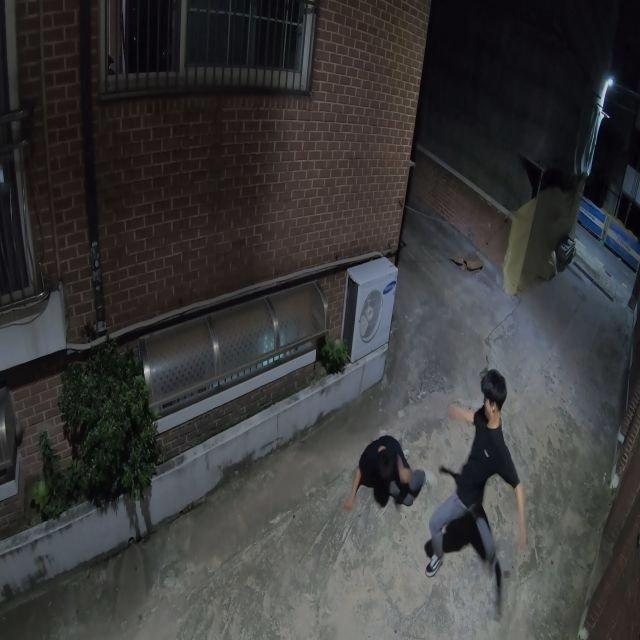fight: (426, 370, 534, 576)
non-fight: (345, 433, 425, 512)
